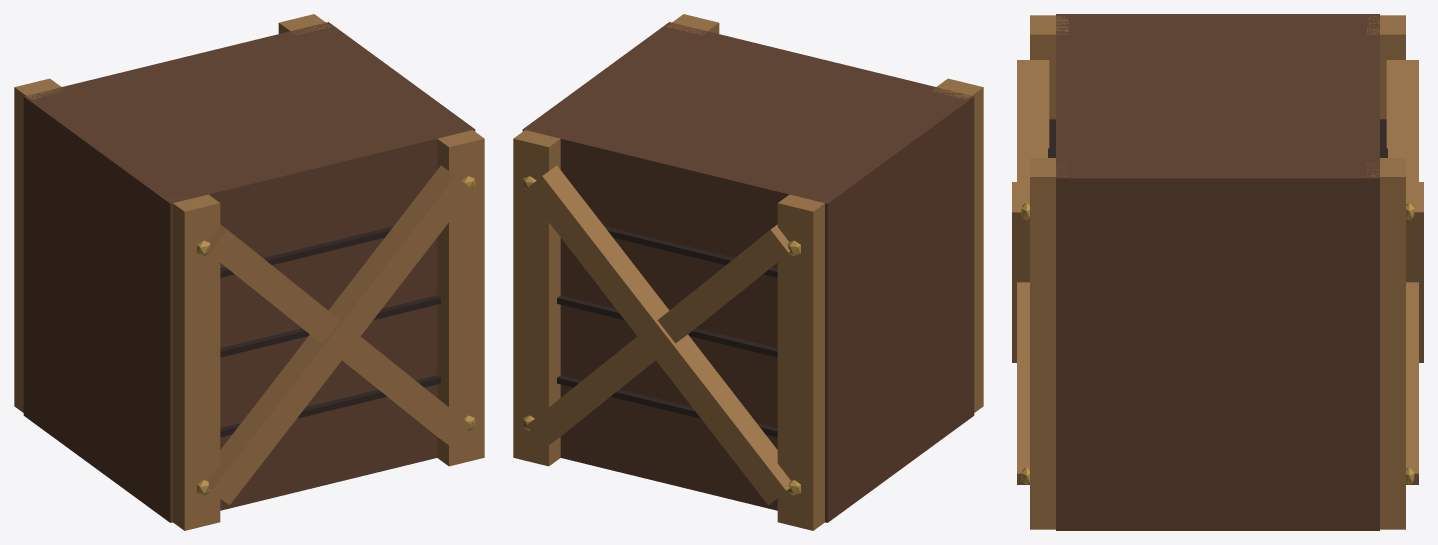
File: PirateCove_SupplyCrate_Showcase.glb
The picture shows the model from 3 angles, left to right: view 1: azimuth 30°, elevation 25°; view 2: azimuth 150°, elevation 25°; view 3: azimuth 270°, elevation 25°; orthographic projection. The views are drawn at different scales.
Parts seen in each view (by area): view 1: PirateCove_SupplyCrate_Showcase; view 2: PirateCove_SupplyCrate_Showcase; view 3: PirateCove_SupplyCrate_Showcase.
Part boxes in pixels (bbox=[...]): PirateCove_SupplyCrate_Showcase: bbox=[14, 14, 484, 530]; PirateCove_SupplyCrate_Showcase: bbox=[513, 14, 983, 530]; PirateCove_SupplyCrate_Showcase: bbox=[1012, 14, 1423, 530].
Bounding box in the file's own units: 1.2 × 1.2 × 1.27.
